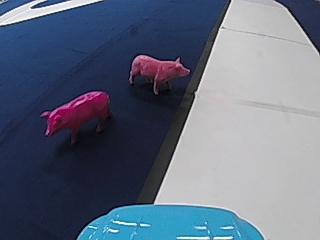pig: (38, 86, 112, 143), (126, 51, 191, 93)
